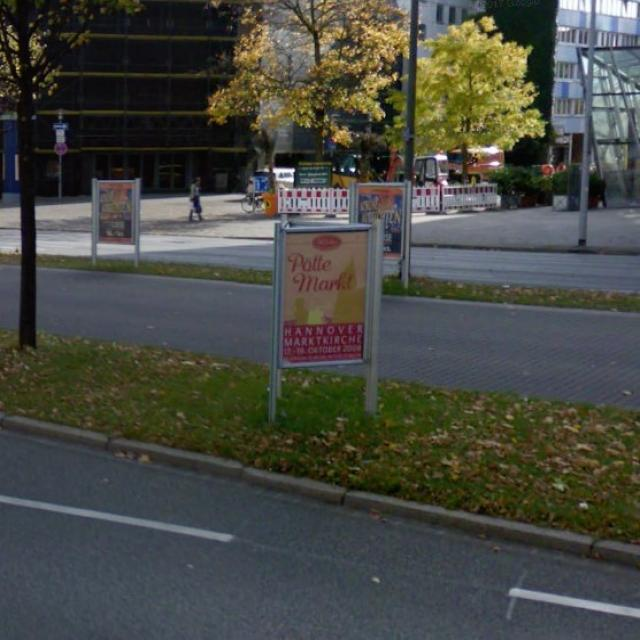Werbetafel frei: (276, 228, 371, 367), (355, 183, 409, 261), (95, 182, 140, 246)
